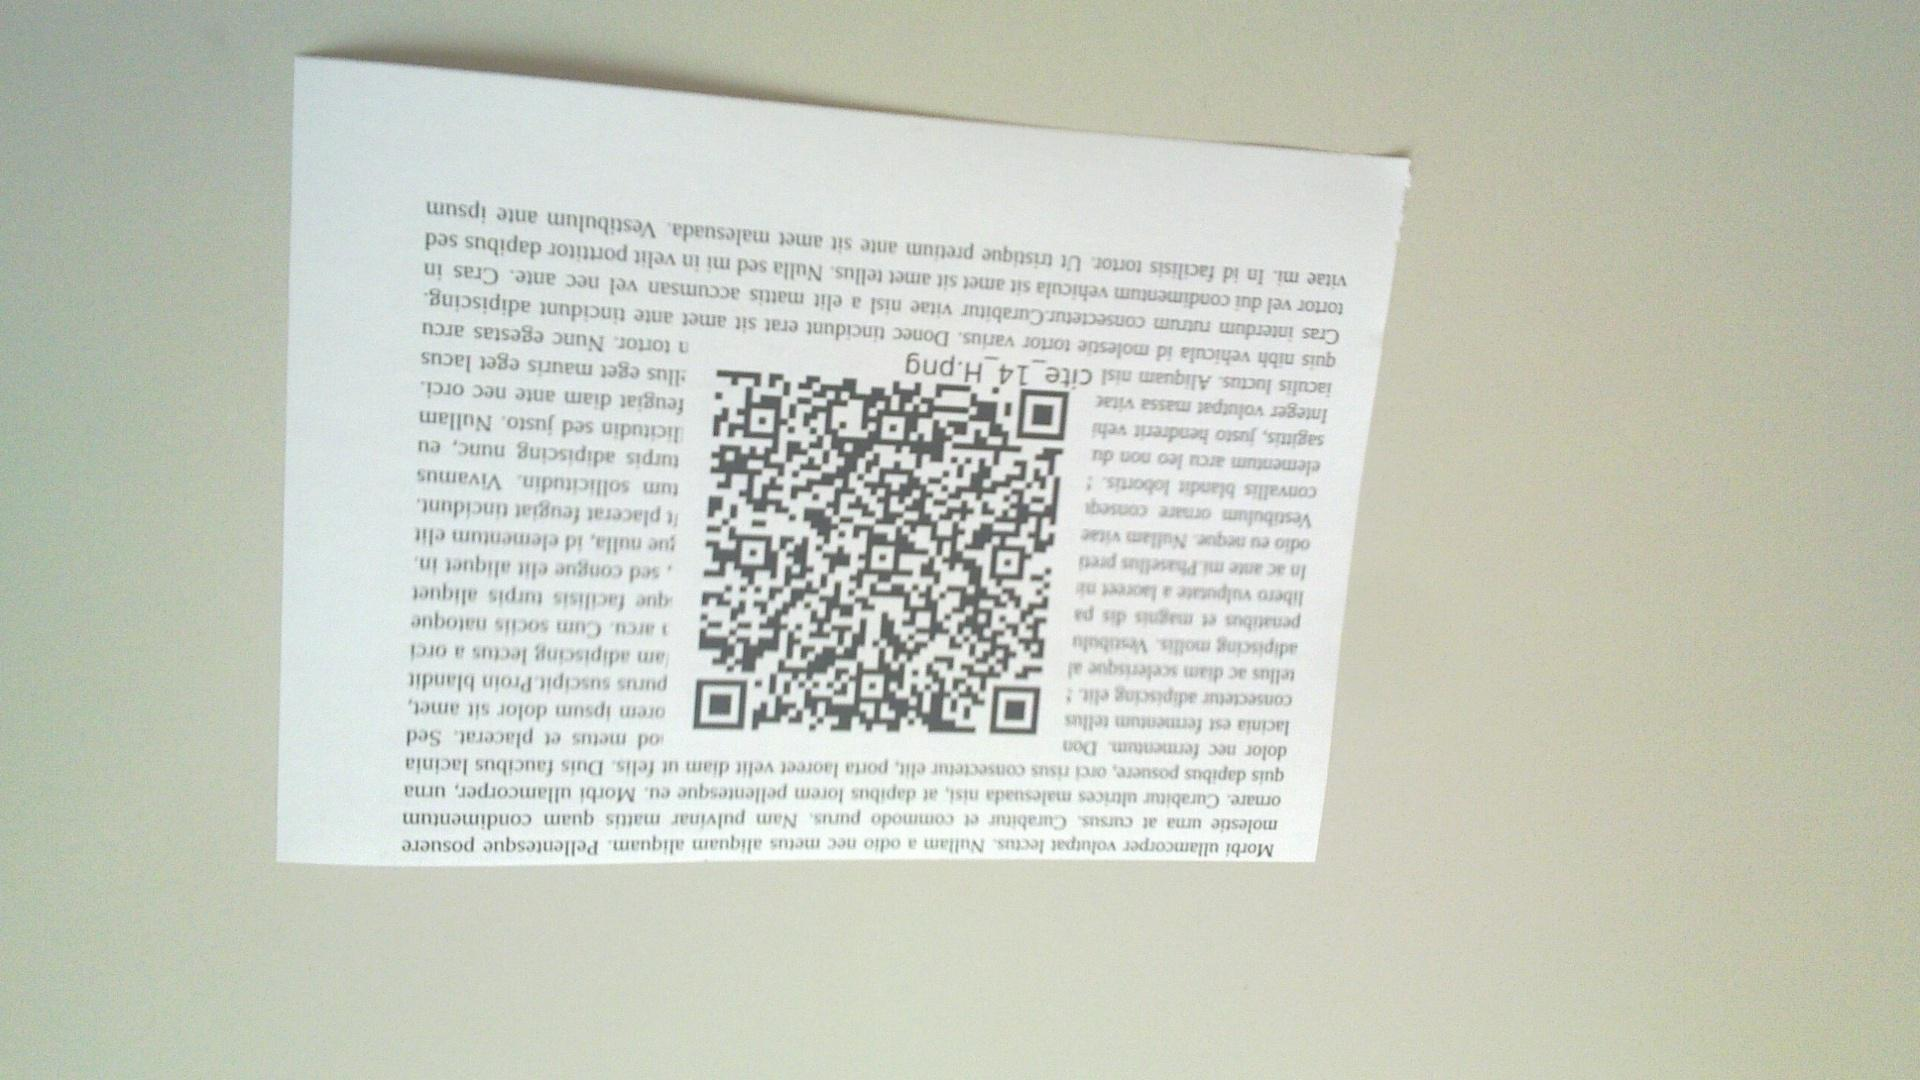Finder pattern: (1011, 385, 1071, 443), (694, 674, 750, 735), (989, 678, 1044, 738)
